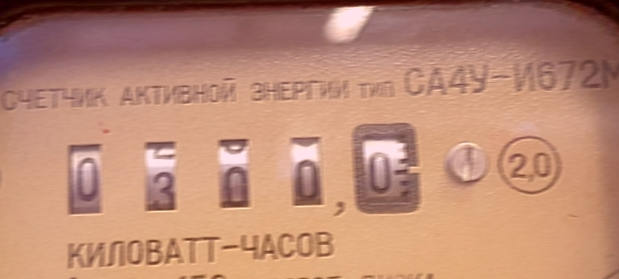0: (290, 155, 321, 202), (73, 150, 101, 202), (220, 159, 249, 208), (364, 146, 393, 195)
3: (148, 165, 177, 209)
screen: (45, 113, 429, 232)
